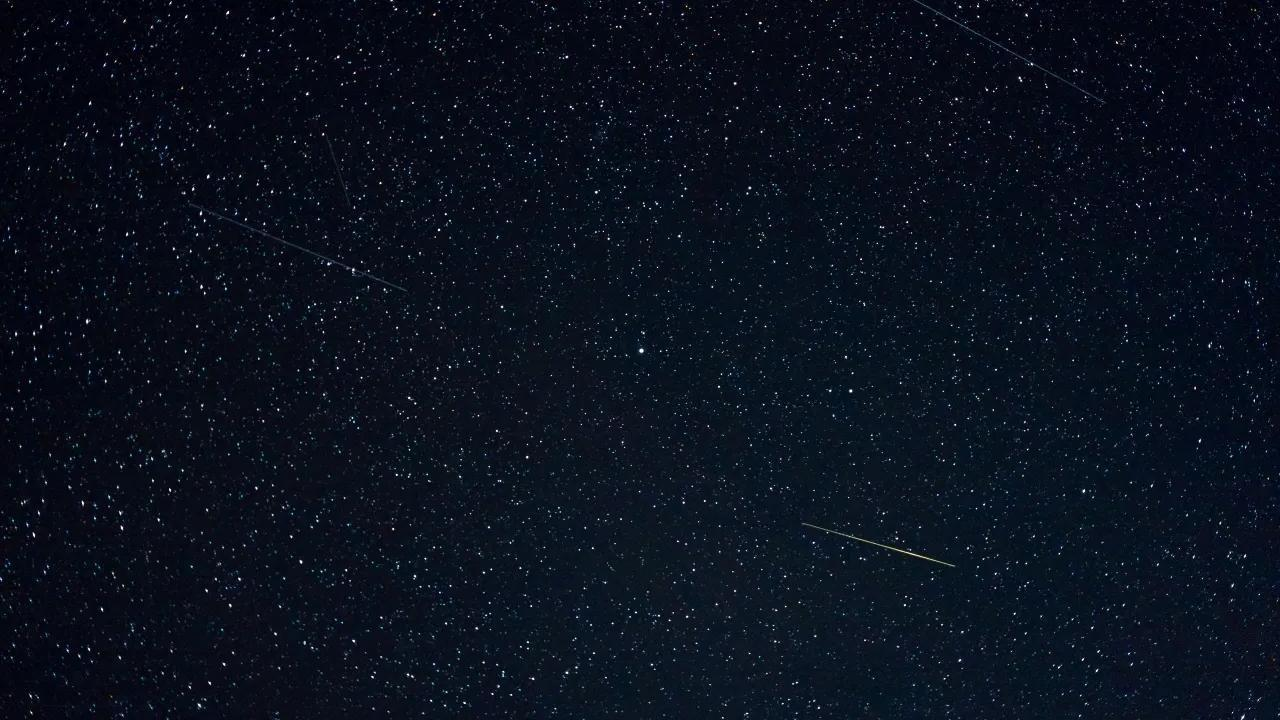meteorite: (867, 0, 1196, 106), (194, 187, 394, 312), (792, 520, 985, 582)
